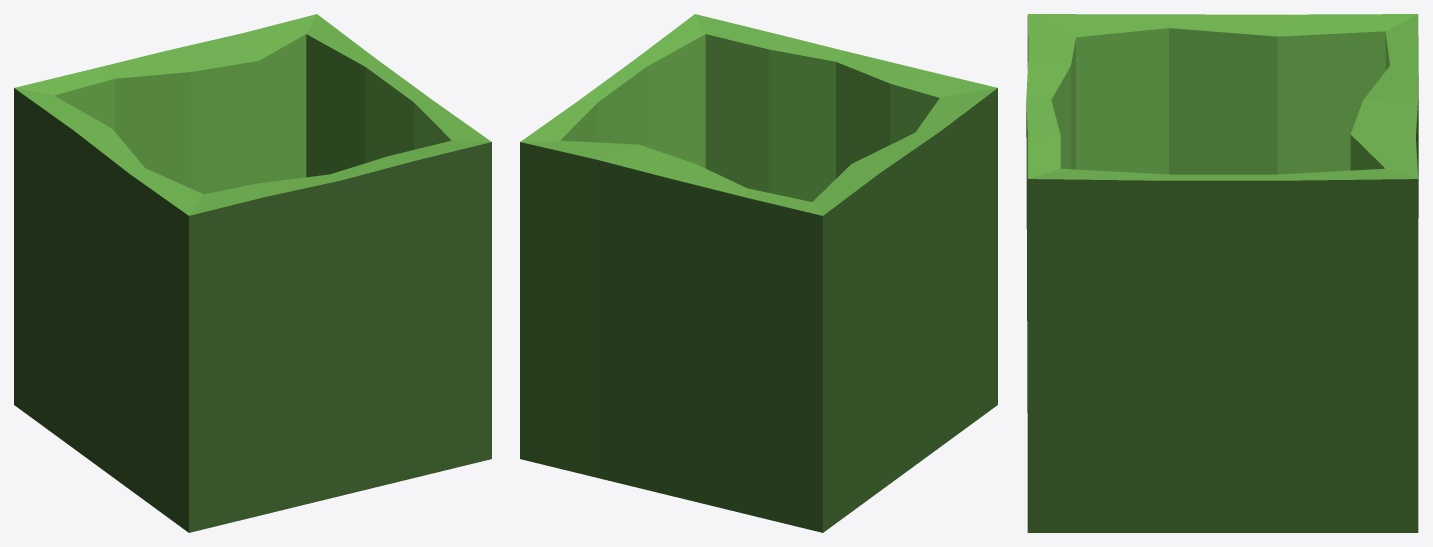
File: IsometricTile_Light_WaterTile_WithoutWater.fbx
3 renders of one model, left to right at view 1: azimuth 30°, elevation 25°; view 2: azimuth 150°, elevation 25°; view 3: azimuth 270°, elevation 25°, orthographic. The views are drawn at different scales.
Visible parts, largest first — view 1: Cube.036; view 2: Cube.036; view 3: Cube.036.
Part boxes in pixels (x1,y1,x2,y2): Cube.036: [14, 14, 491, 532]; Cube.036: [520, 14, 997, 532]; Cube.036: [1026, 14, 1418, 532].
Bounding box in the file's own units: 1 × 1 × 1.
